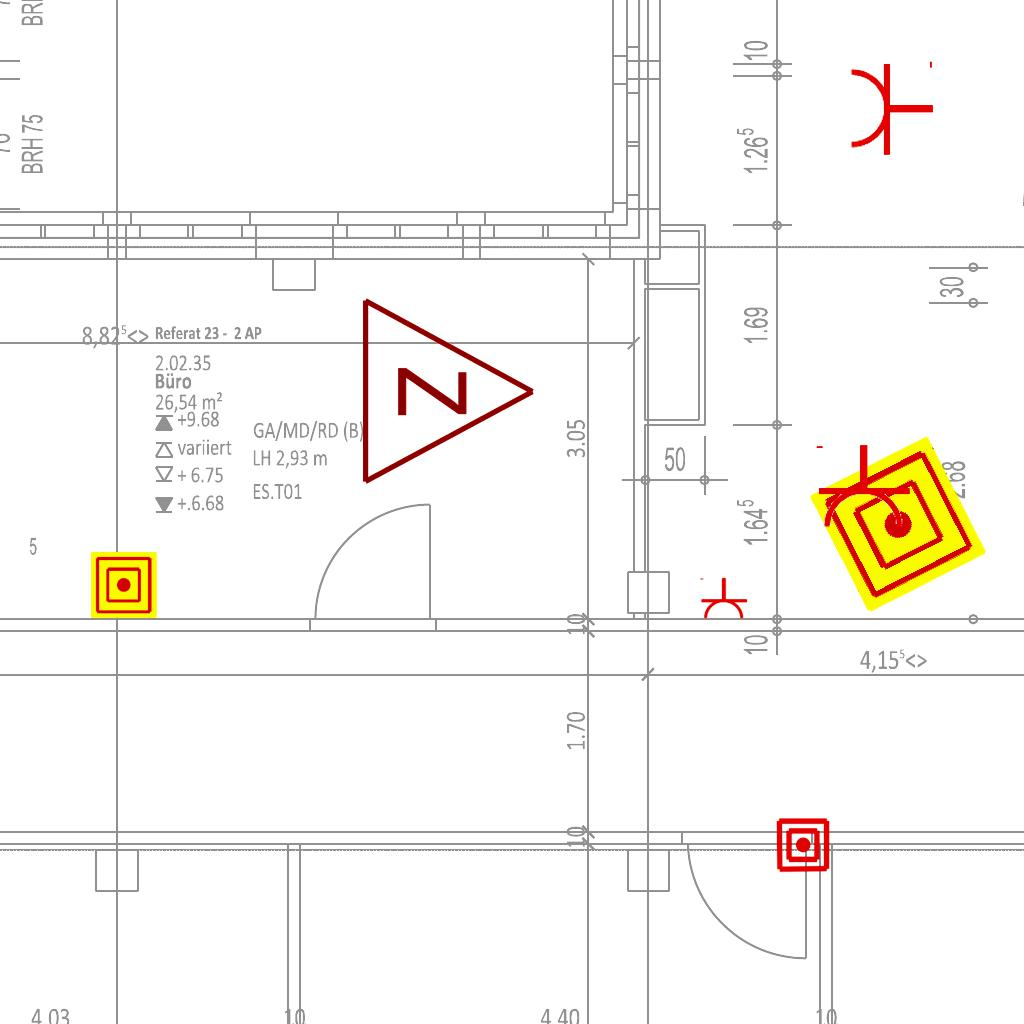NAM-Nichtautomatischer_Melder: (809, 435, 987, 613), (91, 552, 157, 618), (775, 817, 831, 873)
Schukosteckdose_einfach: (848, 57, 935, 157), (812, 443, 912, 530), (698, 577, 748, 620)
Zimmersignalleuchte: (348, 291, 548, 487)
